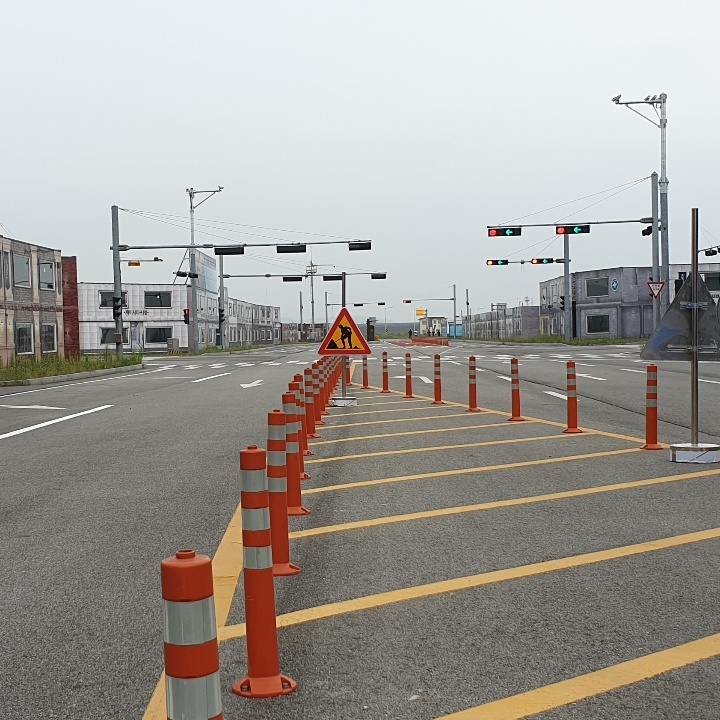const: (323, 312, 363, 353)
